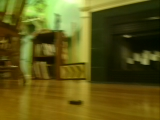right: (58, 64, 87, 79)
